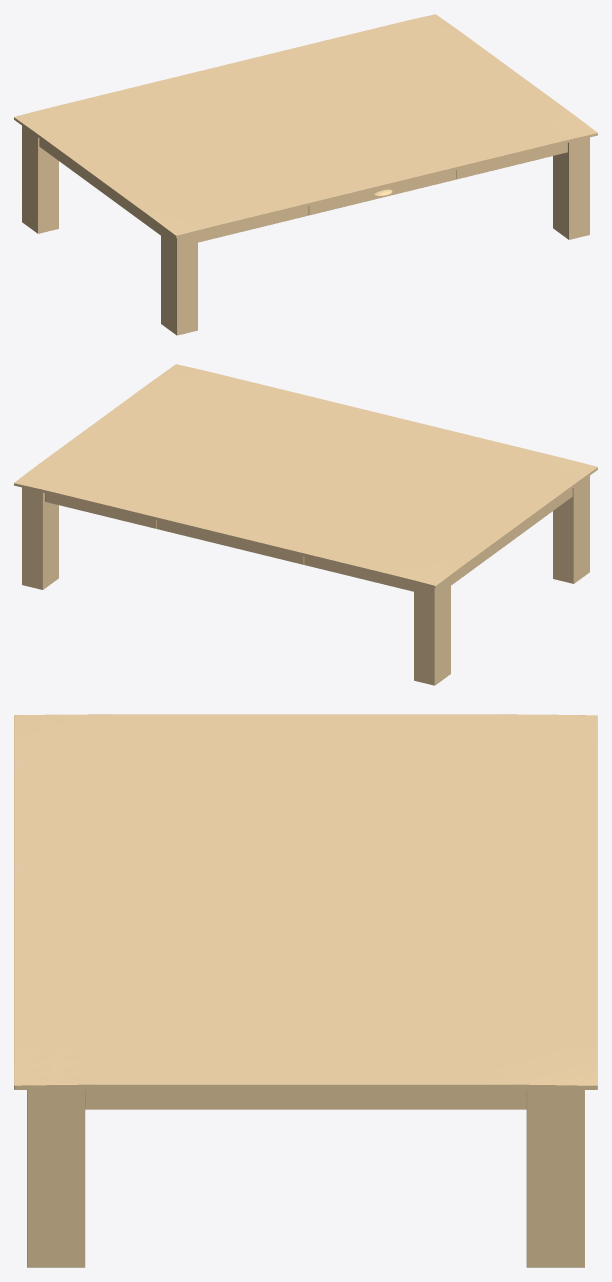
The model's file is tableBrown2.1x1.4x0.5m.dae.
The picture shows the model from 3 angles, top to bottom: view 1: azimuth 30°, elevation 25°; view 2: azimuth 150°, elevation 25°; view 3: azimuth 270°, elevation 25°; orthographic projection. The views are drawn at different scales.
Parts seen in each view (by area): view 1: tableBrown2.1x1.4x0.5m; view 2: tableBrown2.1x1.4x0.5m; view 3: tableBrown2.1x1.4x0.5m.
Part boxes in pixels (x1=…): tableBrown2.1x1.4x0.5m: x1=14, y1=14, x2=597, y2=335; tableBrown2.1x1.4x0.5m: x1=14, y1=364, x2=597, y2=685; tableBrown2.1x1.4x0.5m: x1=14, y1=714, x2=597, y2=1267.
Bounding box in the file's own units: 2.12 × 1.41 × 0.5.
